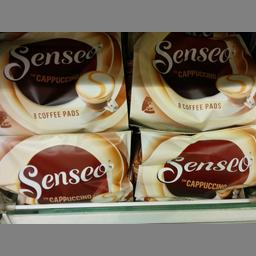coffee: (0, 31, 131, 130), (128, 30, 255, 129), (2, 130, 132, 204), (130, 126, 255, 201)
